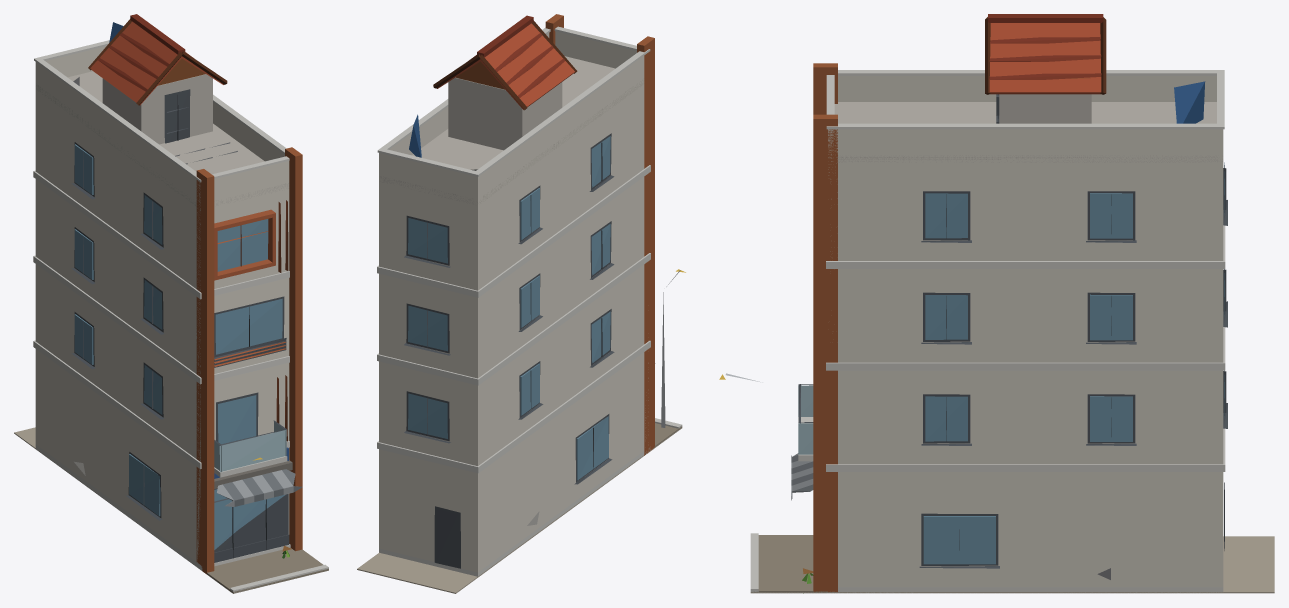
File: bay2_one.glb
The picture shows the model from 3 angles, left to right: view 1: azimuth 30°, elevation 25°; view 2: azimuth 150°, elevation 25°; view 3: azimuth 270°, elevation 25°; orthographic projection. The views are drawn at different scales.
Visible parts, largest first — view 1: body; view 2: body; view 3: body.
Boxes of the visible parts, x1,y1,x2,y2 form: body: [14, 14, 328, 593]; body: [357, 14, 682, 593]; body: [725, 14, 1274, 593].
Bounding box in the file's own units: 4.71 × 18.67 × 16.87.
